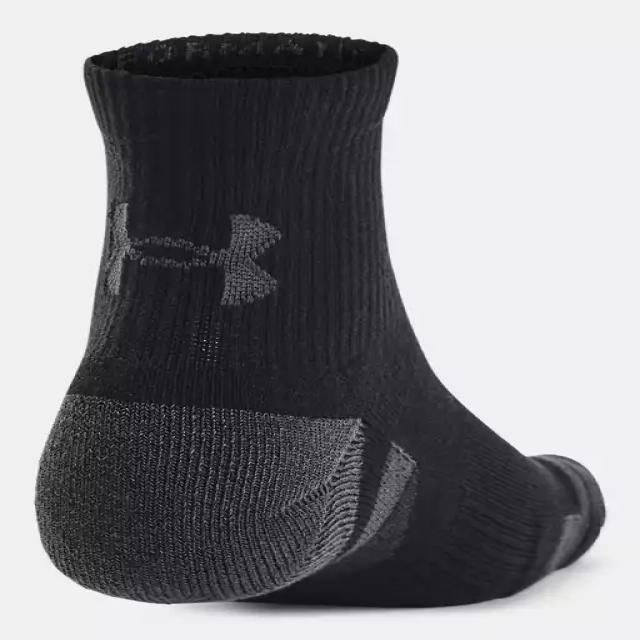sock: (34, 31, 606, 608)
